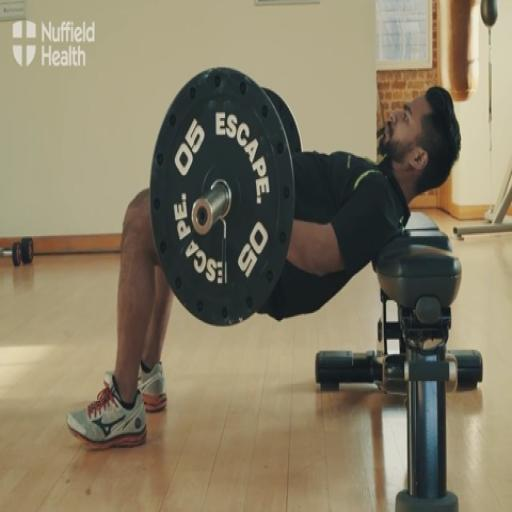exercise: (64, 66, 463, 452)
